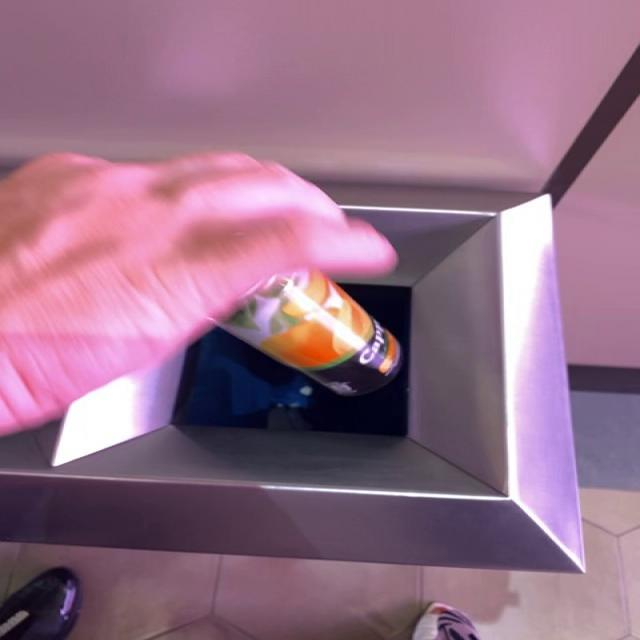bin: (3, 186, 585, 572)
metal: (221, 271, 401, 396)
